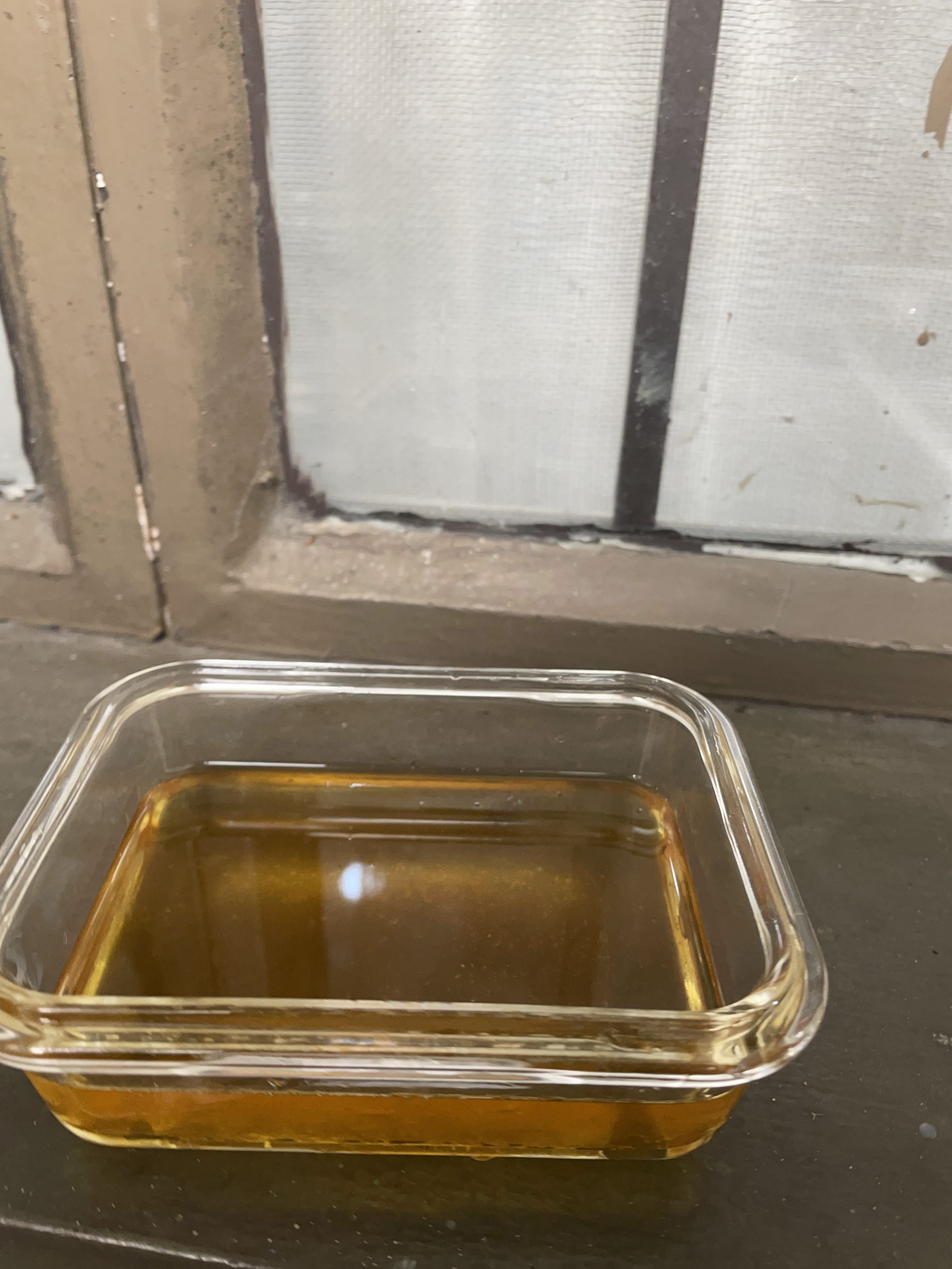reusable: (47, 762, 711, 1010)
